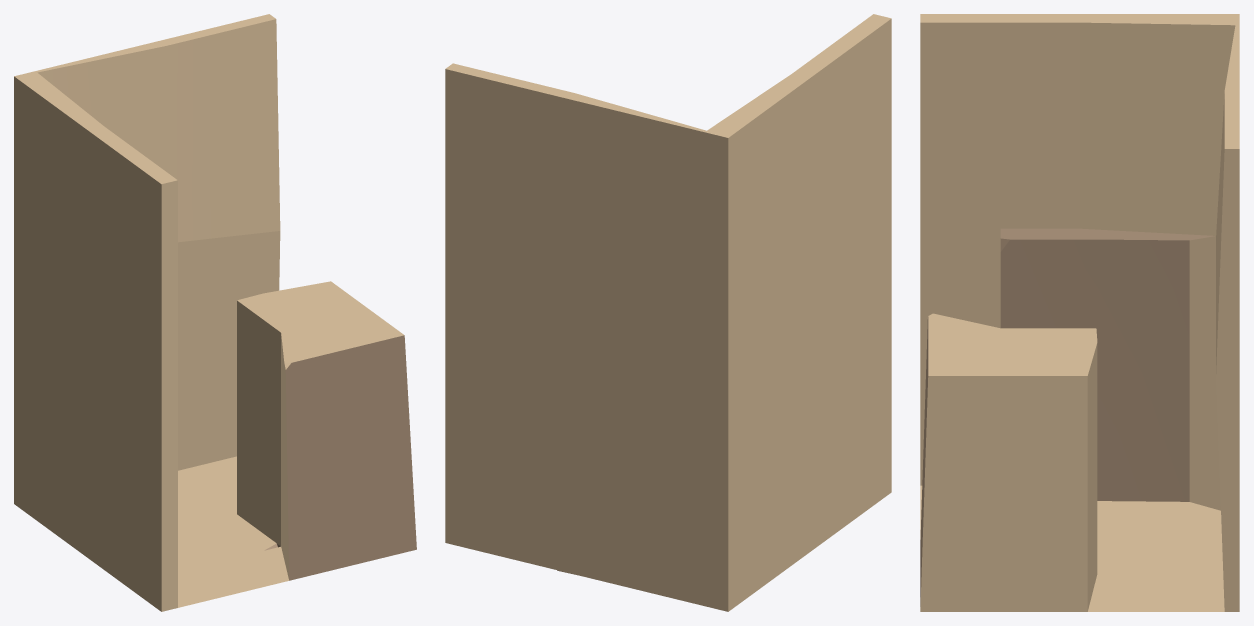
Rendered from CornerPlatform.fbx.
3 renders of one model, left to right at view 1: azimuth 30°, elevation 25°; view 2: azimuth 150°, elevation 25°; view 3: azimuth 270°, elevation 25°, orthographic. The views are drawn at different scales.
Visible parts, largest first — view 1: CornerPlatform, CornerPlatformPlatform; view 2: CornerPlatform; view 3: CornerPlatform, CornerPlatformPlatform.
Part boxes in pixels (x1,y1,x2,y2): CornerPlatform: [14, 14, 416, 611]; CornerPlatformPlatform: [178, 477, 277, 571]; CornerPlatform: [445, 14, 891, 611]; CornerPlatform: [920, 14, 1239, 611]; CornerPlatformPlatform: [1097, 501, 1190, 573].
Bounding box in the file's own units: 5 × 8.4 × 5.
